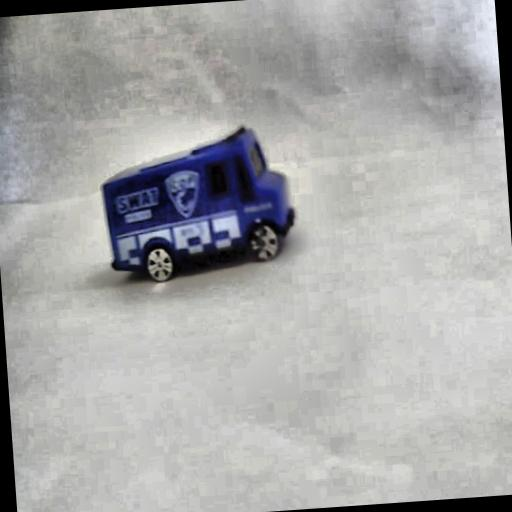police car: (94, 116, 302, 282)
